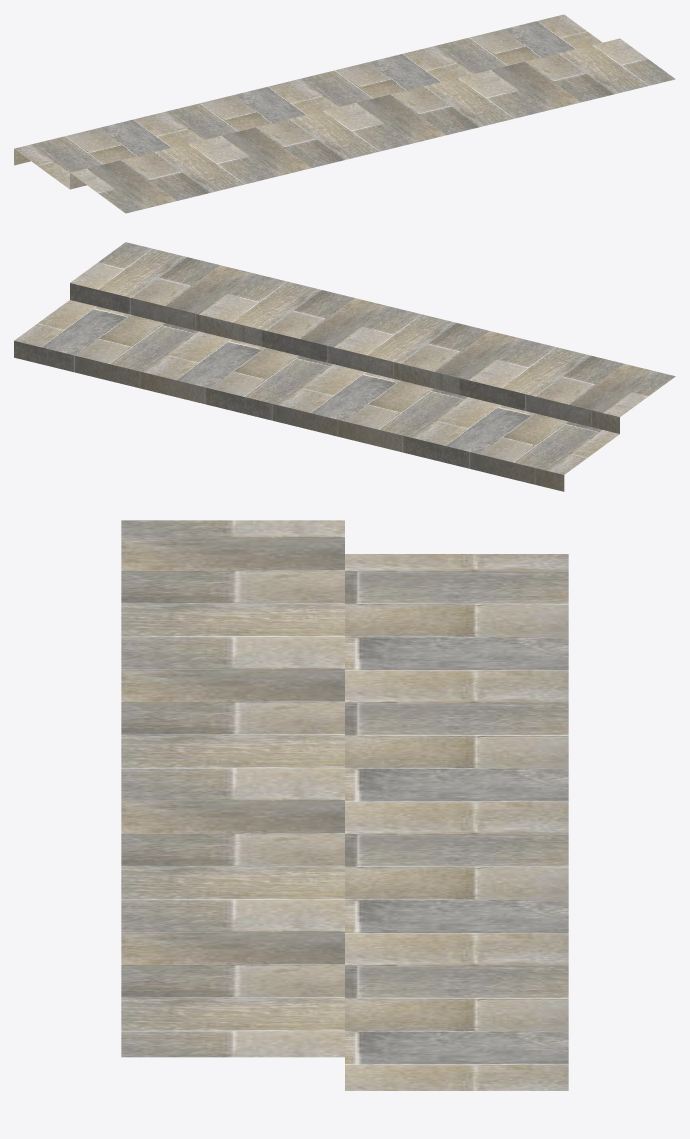
Rendered from LIH0110008.fbx.
The picture shows the model from 3 angles, top to bottom: view 1: azimuth 30°, elevation 25°; view 2: azimuth 150°, elevation 25°; view 3: azimuth 270°, elevation 25°; orthographic projection. The views are drawn at different scales.
Parts seen in each view (by area): view 1: smLIH0110008; view 2: smLIH0110008; view 3: smLIH0110008.
Part boxes in pixels (bbox=[...]): smLIH0110008: bbox=[14, 14, 675, 213]; smLIH0110008: bbox=[14, 242, 675, 491]; smLIH0110008: bbox=[121, 520, 568, 1090].
Size of the model in its own units: 355 by 20.81 by 125.
1 material, 1 textured.
